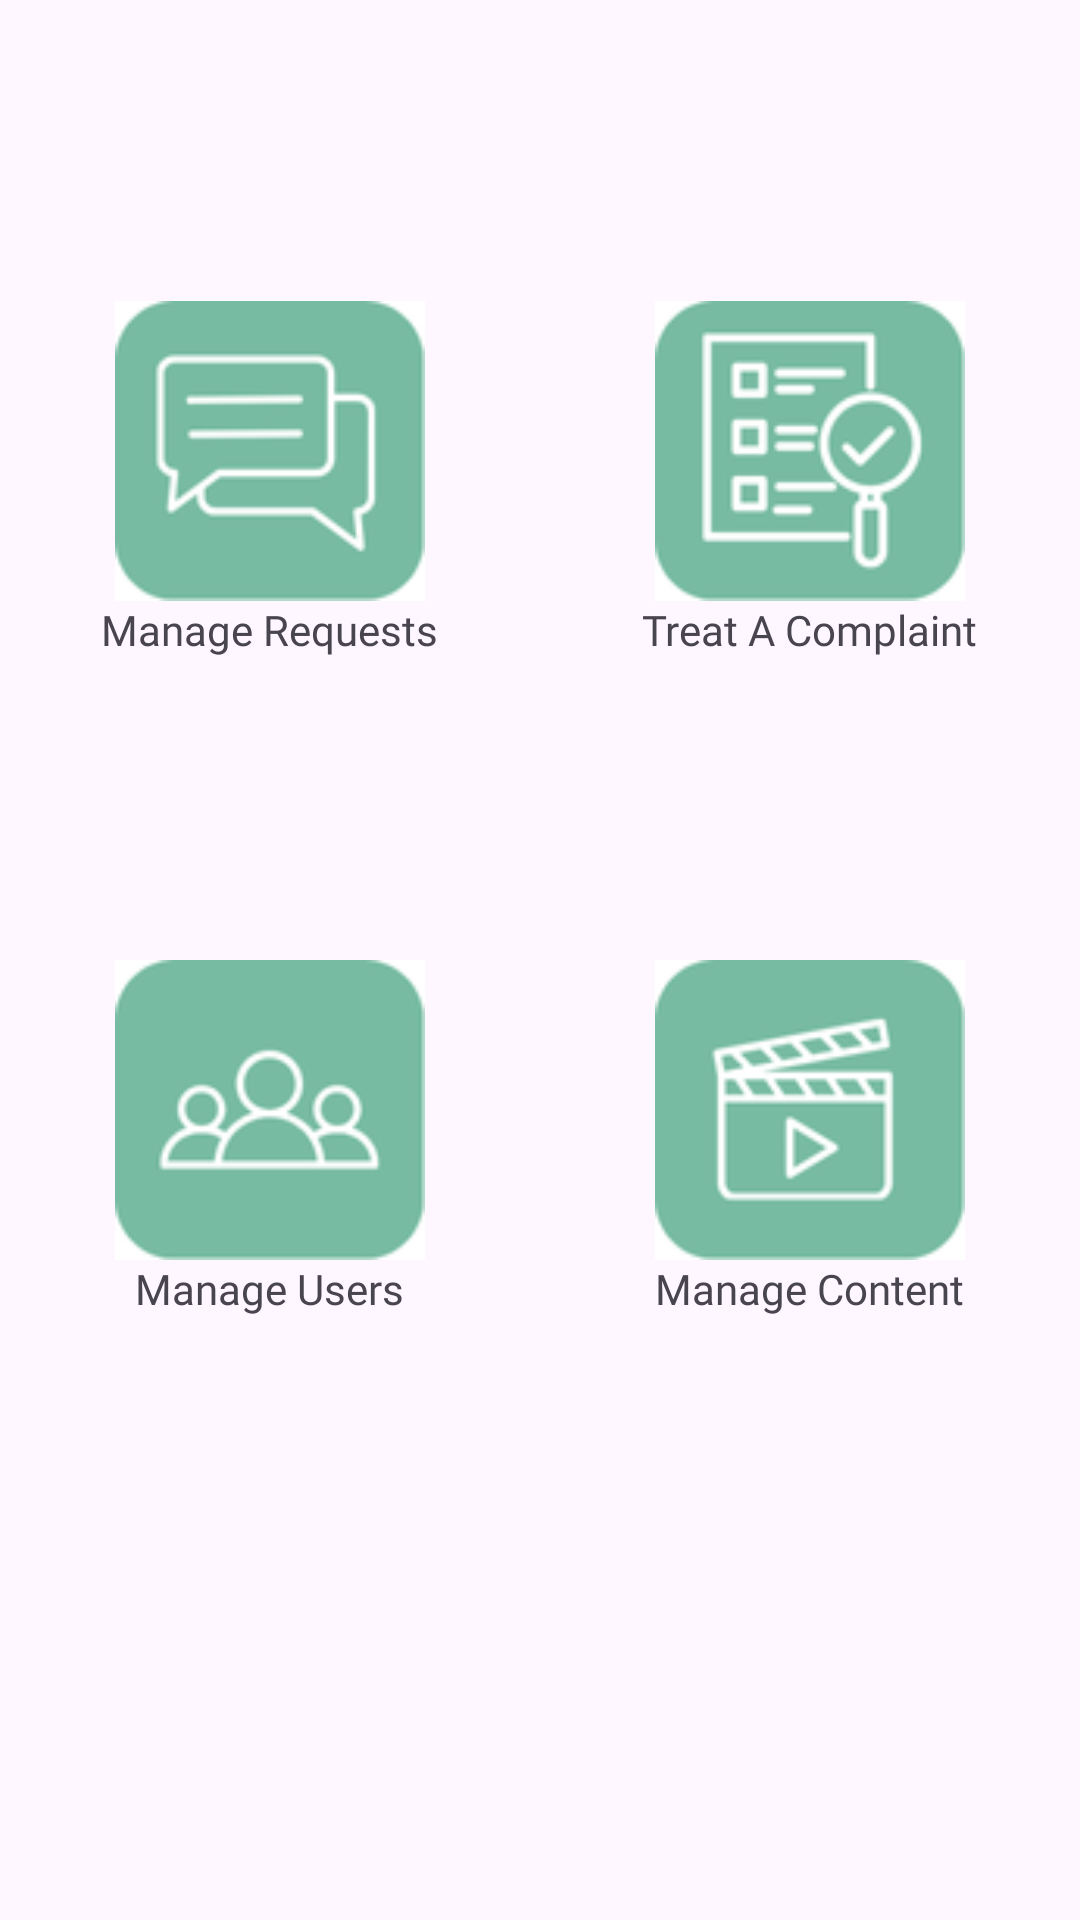

Named icons in this screenshot (1080x1920) and their centers, (x=x, y=y):
videos card: (x=810, y=1110)
